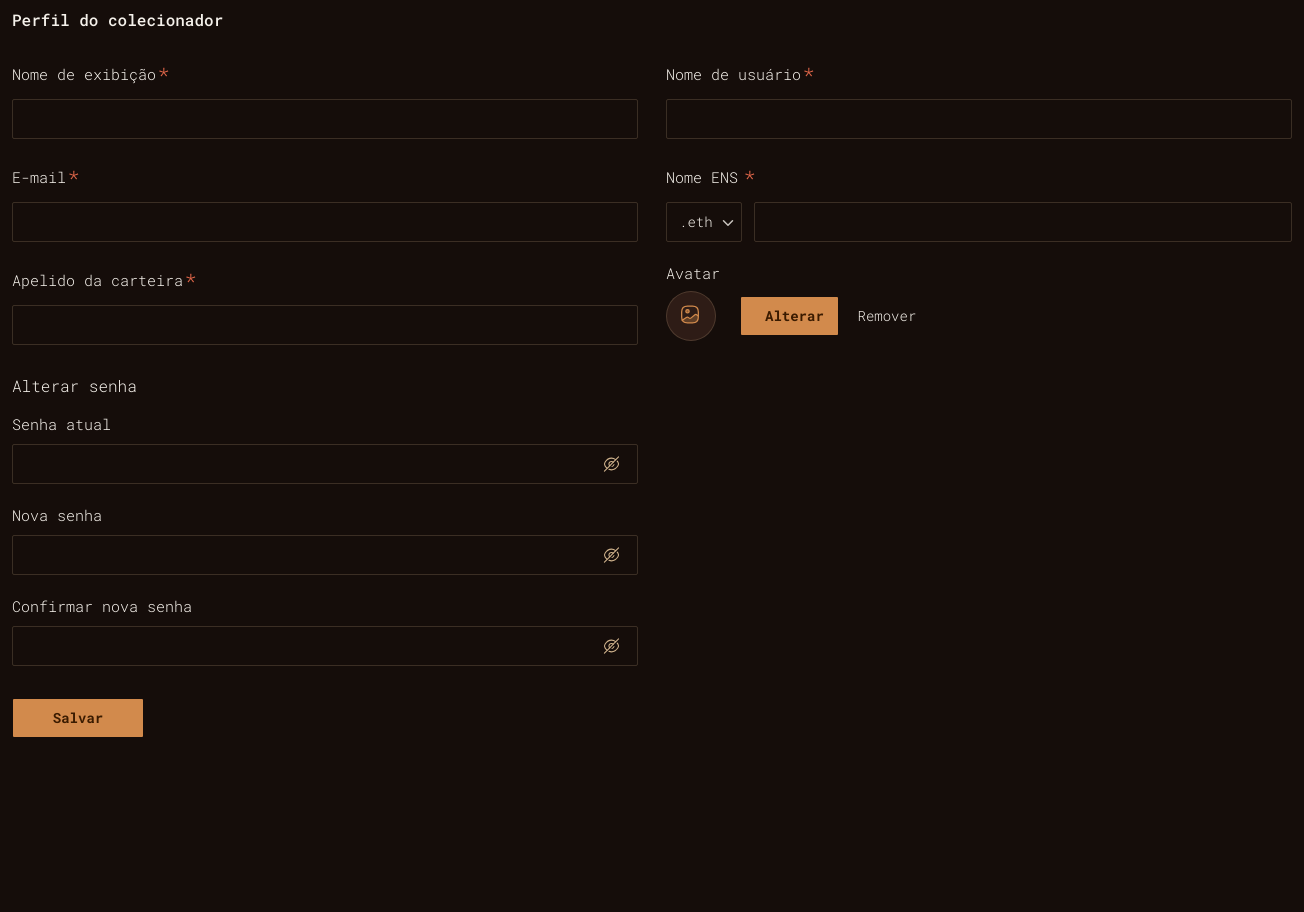
Test: ProfileForm › usa .eth como sufixo ENS padrão e só oferece essa opção
Click the dropdown named "Sufixo ENS" at (704, 222), box x1=666 y1=202 x2=742 y2=242
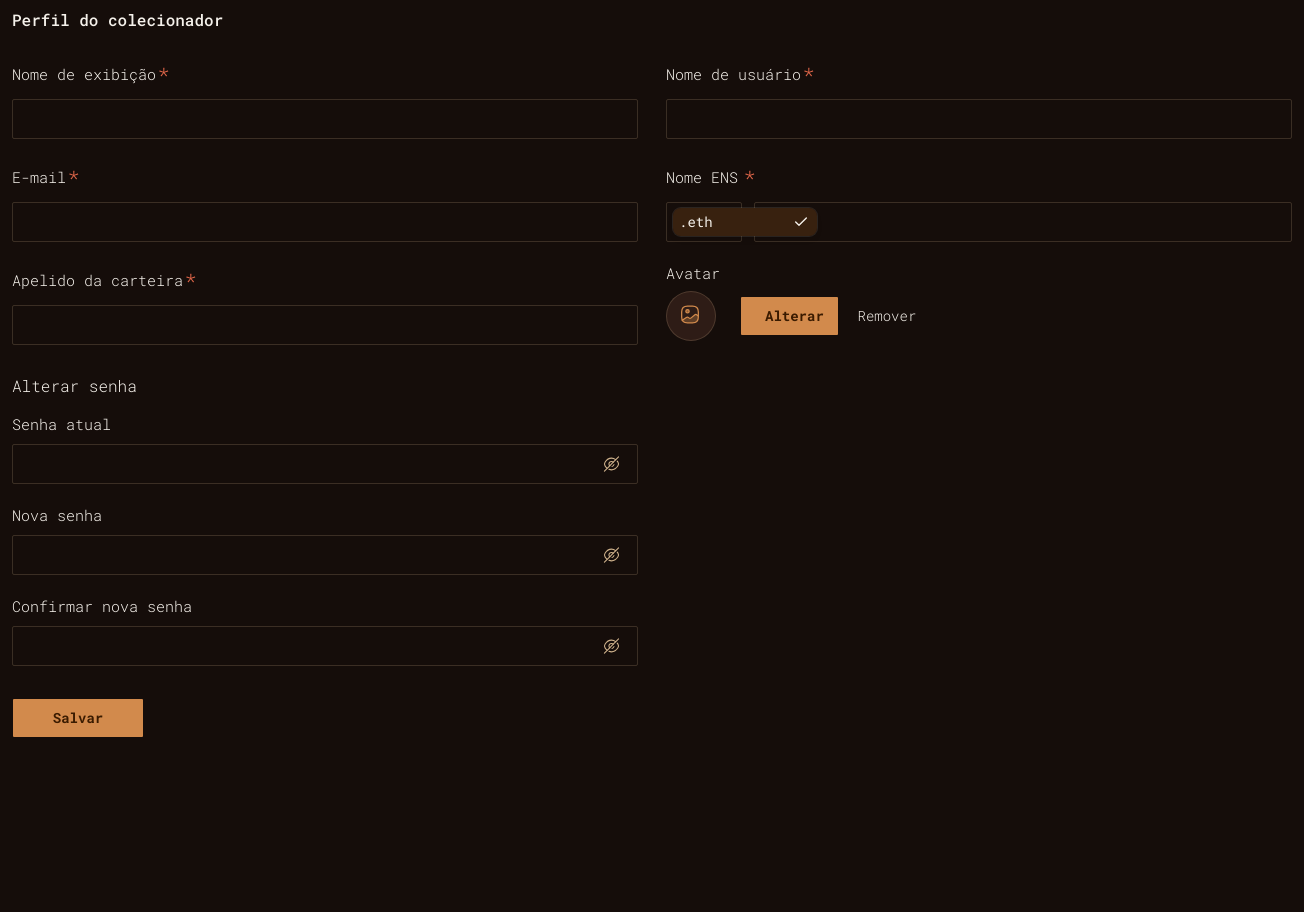
Now the number of options is 1, box x1=673 y1=208 x2=817 y2=236
